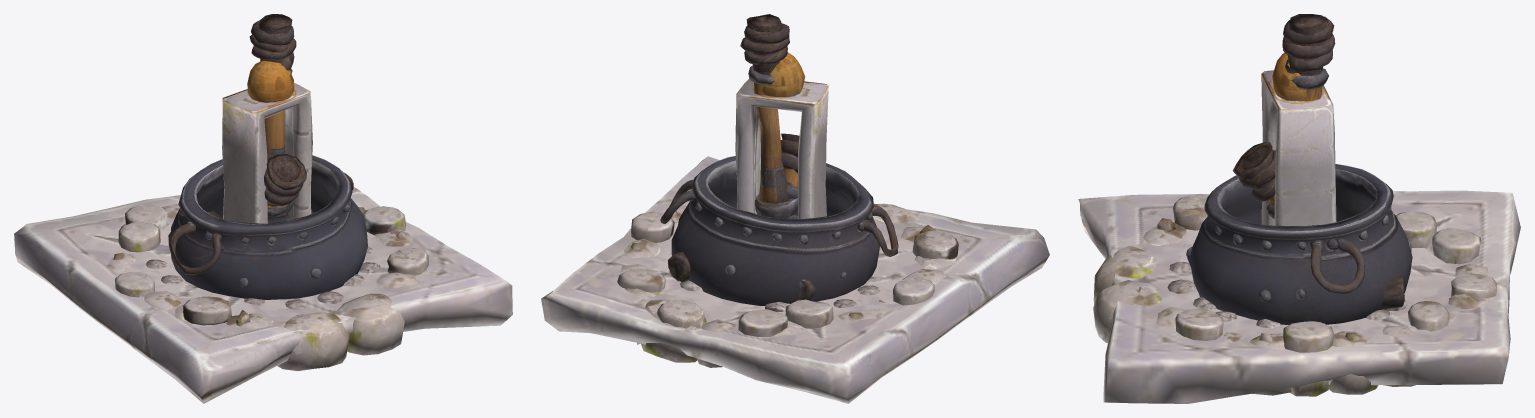
Rendered from fuego_medieval.glb.
The picture shows the model from 3 angles, left to right: view 1: azimuth 30°, elevation 25°; view 2: azimuth 150°, elevation 25°; view 3: azimuth 270°, elevation 25°; orthographic projection. The views are drawn at different scales.
Parts seen in each view (by area): view 1: baldosa_falsa, caldera_cuerpo, caldera_hogar, caldera_medidor, antorcha_pie, antorcha_pared; view 2: baldosa_falsa, caldera_cuerpo, caldera_hogar, caldera_medidor, antorcha_pie, antorcha_pared; view 3: baldosa_falsa, caldera_cuerpo, caldera_hogar, caldera_medidor, antorcha_pie, antorcha_pared.
Part boxes in pixels (x1=…): baldosa_falsa: x1=14, y1=186, x2=512, y2=403; caldera_cuerpo: x1=168, y1=155, x2=369, y2=299; caldera_hogar: x1=106, y1=204, x2=428, y2=370; caldera_medidor: x1=222, y1=60, x2=312, y2=223; antorcha_pie: x1=249, y1=14, x2=296, y2=223; antorcha_pared: x1=264, y1=154, x2=306, y2=217; baldosa_falsa: x1=541, y1=156, x2=1049, y2=403; caldera_cuerpo: x1=660, y1=156, x2=898, y2=305; caldera_hogar: x1=617, y1=203, x2=958, y2=367; caldera_medidor: x1=735, y1=52, x2=828, y2=219; antorcha_pie: x1=740, y1=14, x2=797, y2=218; antorcha_pared: x1=780, y1=133, x2=799, y2=218; baldosa_falsa: x1=1078, y1=190, x2=1520, y2=403; caldera_cuerpo: x1=1186, y1=164, x2=1412, y2=324; caldera_hogar: x1=1093, y1=194, x2=1498, y2=396; caldera_medidor: x1=1261, y1=53, x2=1336, y2=225; antorcha_pie: x1=1282, y1=14, x2=1335, y2=101; antorcha_pared: x1=1232, y1=142, x2=1275, y2=219.
Bounding box in the file's own units: 2 × 1.86 × 2.08.
1 material, 1 textured.
